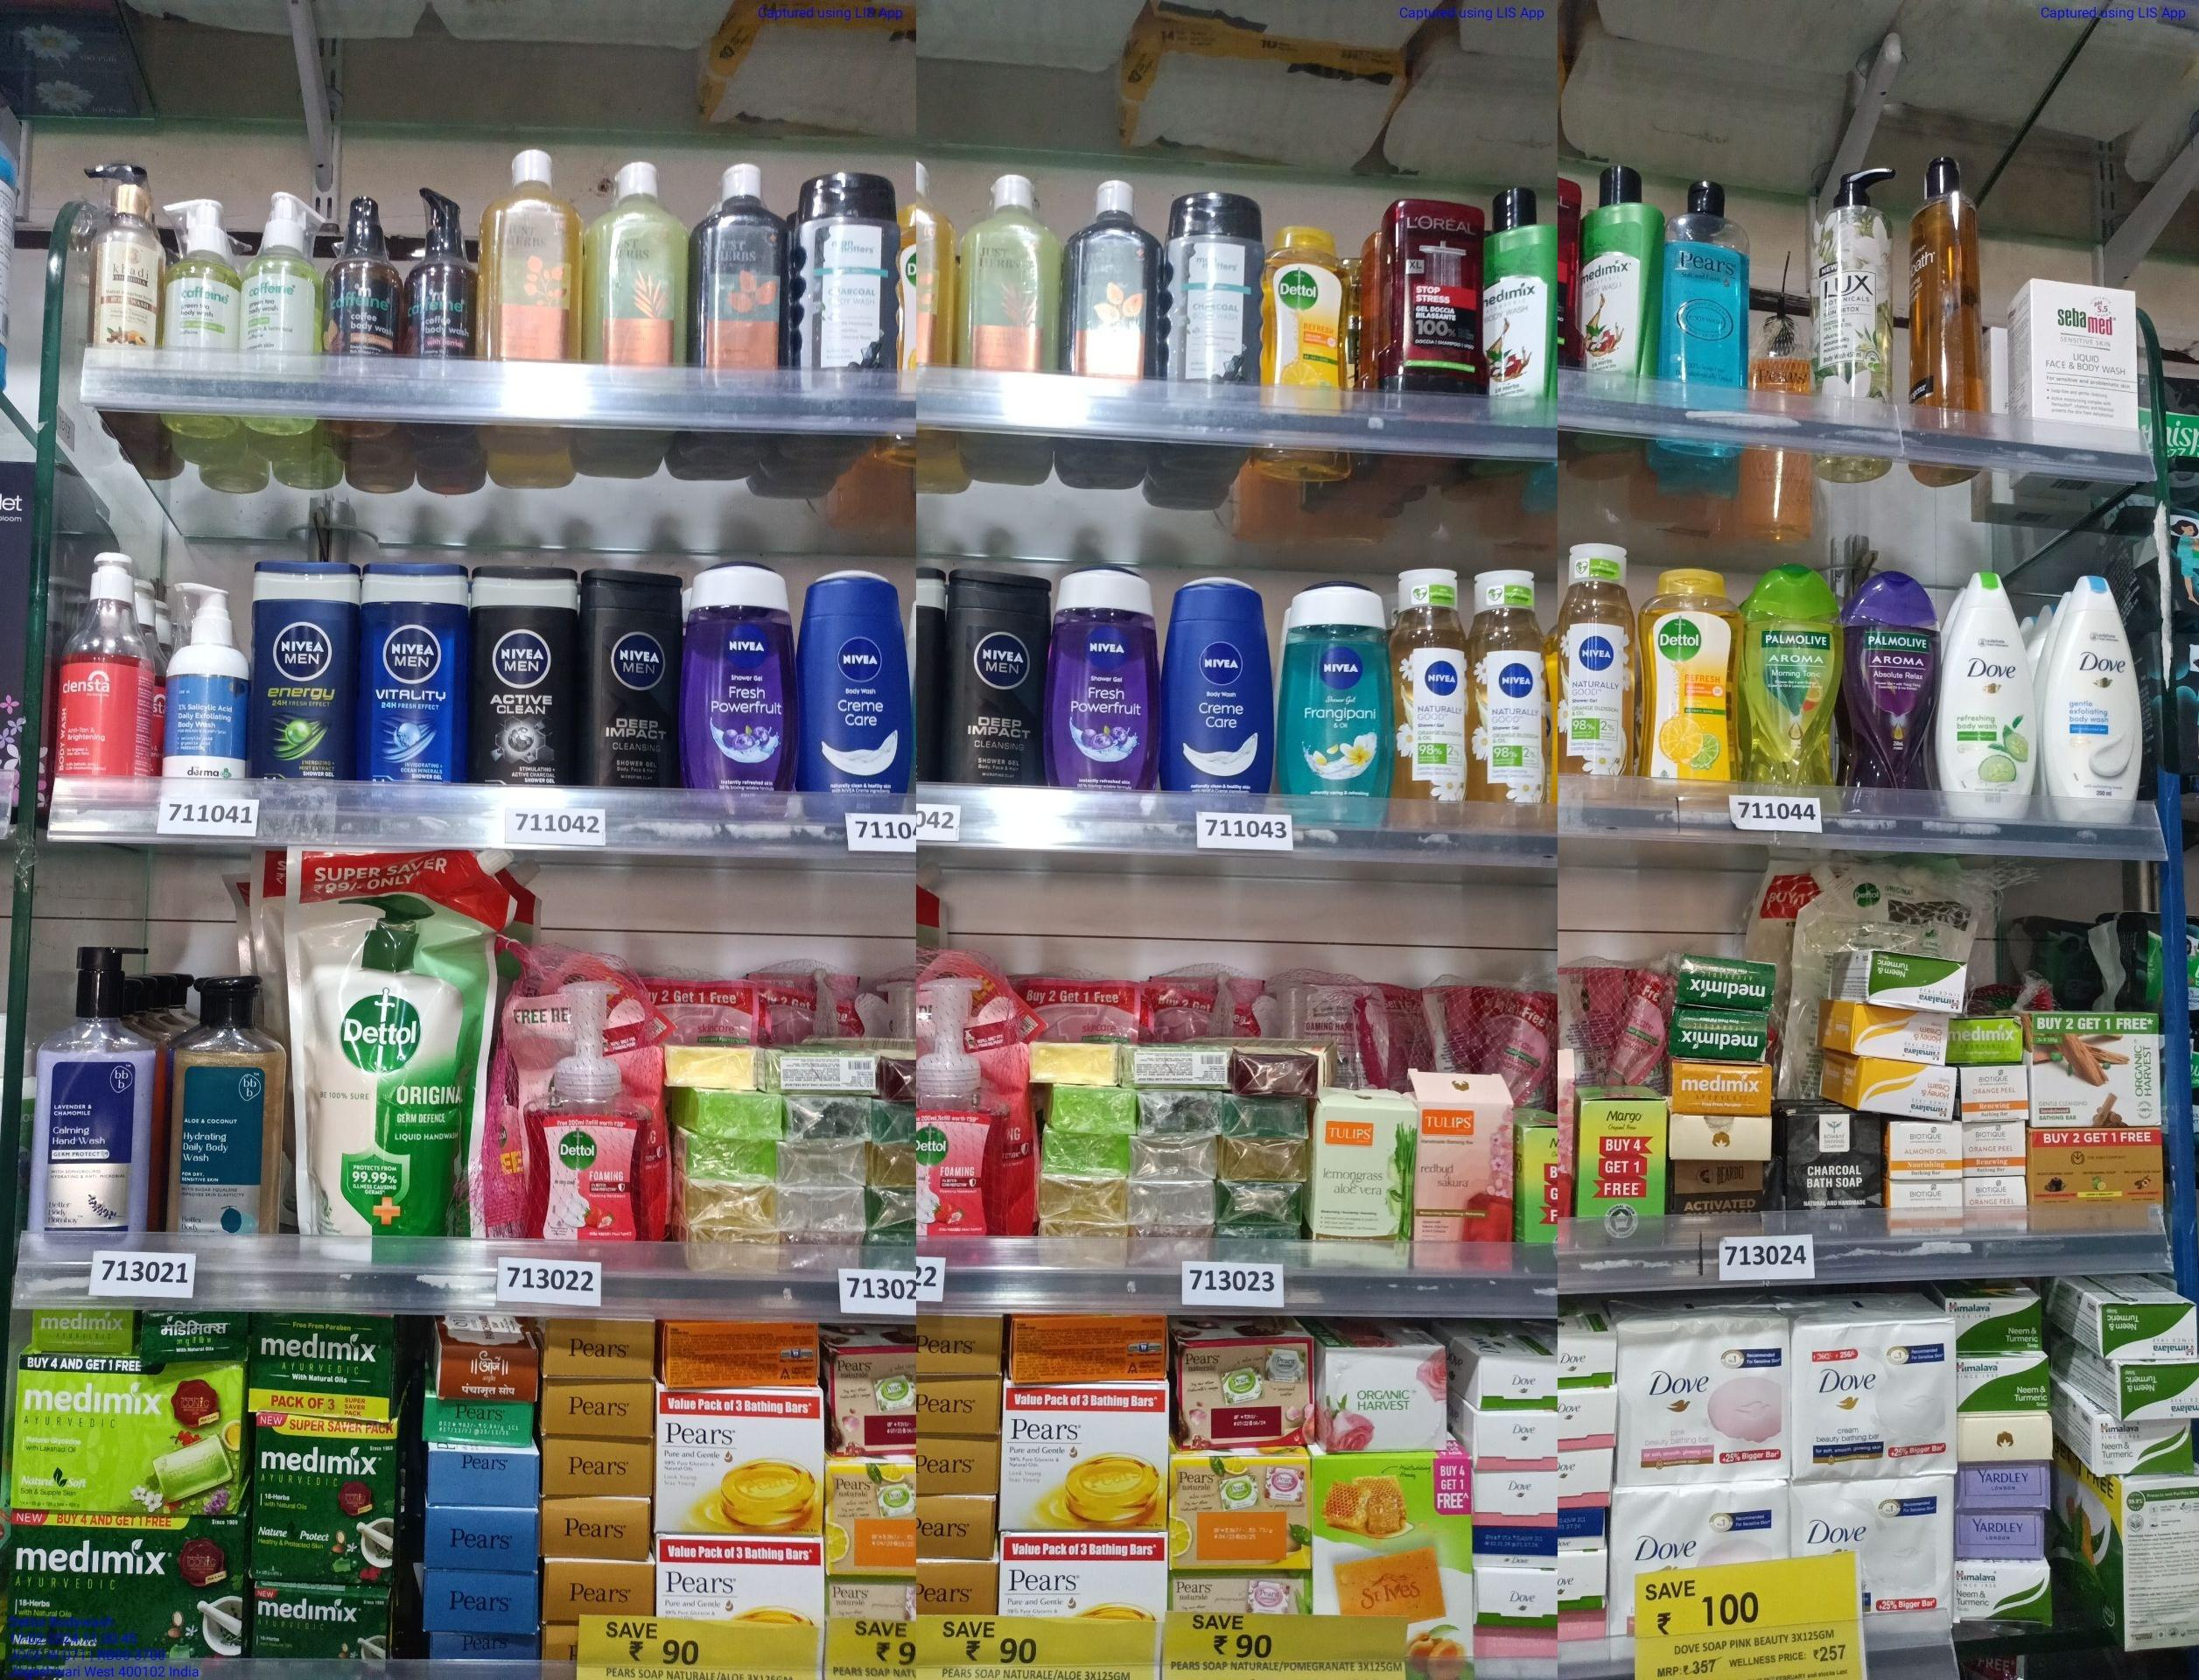Dettol_Bodywash_Refresh: (1636, 568, 1740, 784)
Dove_Gentle_Exfoliating_Body_Wash_250ML: (2049, 577, 2139, 828)
Dove_Refreshing_Body_Wash_250ML: (1936, 570, 2035, 814)
Nivea_Creme_Care_Body_Wash_250ML: (1160, 574, 1276, 794)
Nivea_Shower_Gel_Frangipani_and_Oil_250ML: (1281, 579, 1389, 791)
Nivea_Shower_Gel_Fresh_Powerfruit_250ML: (692, 559, 801, 791), (1052, 572, 1161, 792)
Palmolive_Aroma_Morning_Tonic_Shower_Gel_250ML: (1745, 563, 1844, 785)
Palmolive_Aroma_Relax_250ML: (1851, 568, 1936, 785)
